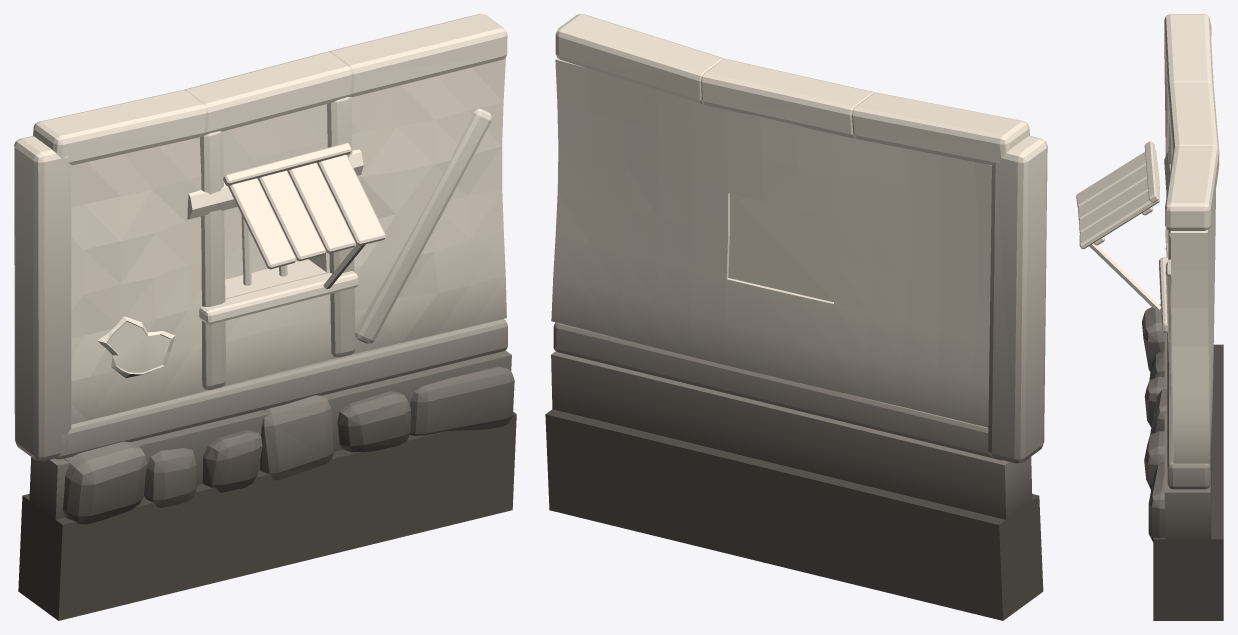
The model's file is SM_VK_Wall_Wattle_Window.fbx.
3 renders of one model, left to right at view 1: azimuth 30°, elevation 25°; view 2: azimuth 150°, elevation 25°; view 3: azimuth 270°, elevation 25°, orthographic. The views are drawn at different scales.
Parts seen in each view (by area): view 1: SM_VK_Wall_Wattle_Window.001; view 2: SM_VK_Wall_Wattle_Window.001; view 3: SM_VK_Wall_Wattle_Window.001.
Part boxes in pixels (x1,y1,x2,y2): SM_VK_Wall_Wattle_Window.001: (14,14,516,620); SM_VK_Wall_Wattle_Window.001: (545,14,1047,620); SM_VK_Wall_Wattle_Window.001: (1076,14,1223,620).
Bounding box in the file's own units: 3.13 × 3 × 0.9614.
